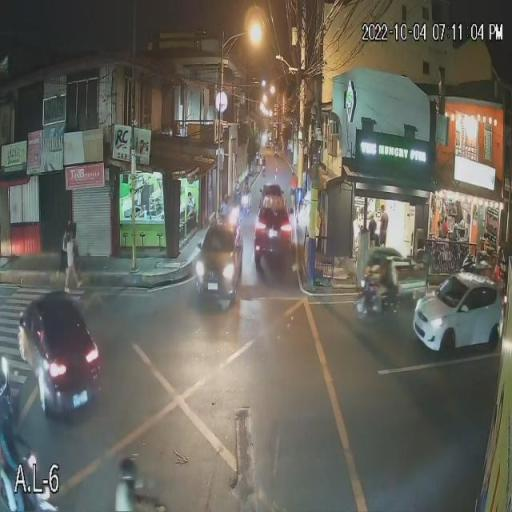helmet: (112, 450, 150, 490)
rider: (100, 480, 176, 512)
